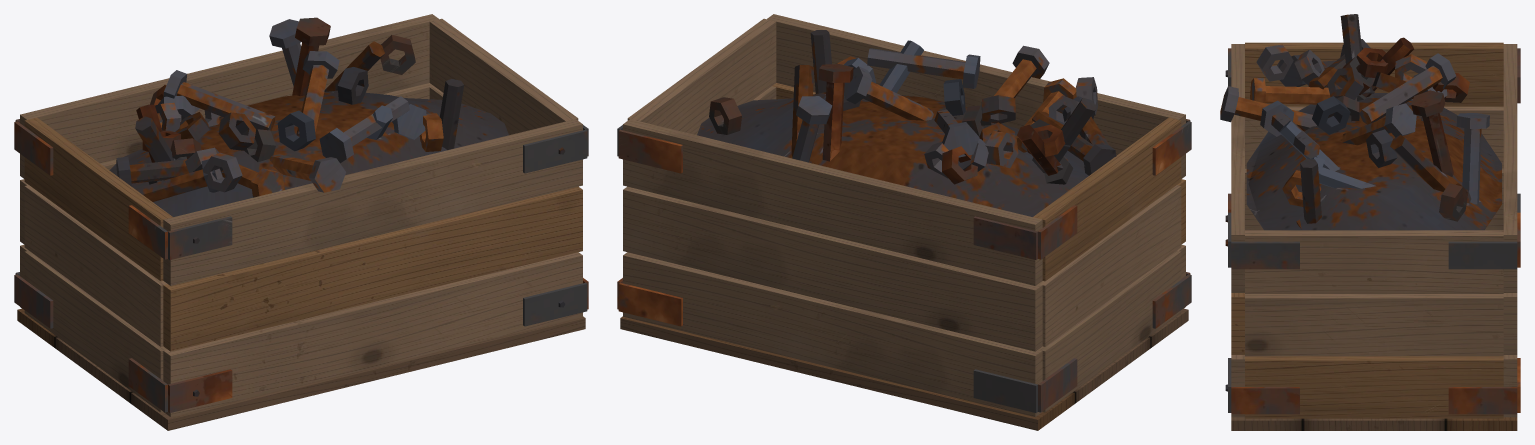
File: Bolt_Nut_Box.glb
3 renders of one model, left to right at view 1: azimuth 30°, elevation 25°; view 2: azimuth 150°, elevation 25°; view 3: azimuth 270°, elevation 25°, orthographic. The views are drawn at different scales.
Parts seen in each view (by area): view 1: Bolt_Nut_Box; view 2: Bolt_Nut_Box; view 3: Bolt_Nut_Box.
Boxes of the visible parts, x1,y1,x2,y2 form: Bolt_Nut_Box: [14, 14, 588, 430]; Bolt_Nut_Box: [617, 14, 1191, 430]; Bolt_Nut_Box: [1220, 14, 1520, 430].
Size of the model in its own units: 0.812 by 0.4961 by 0.5255.
Materials: 6 (6 with a texture image).
